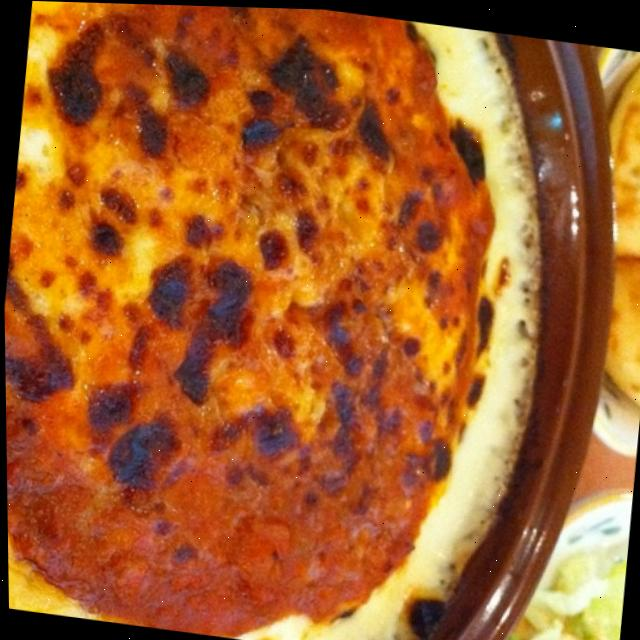米饭主食: (0, 0, 567, 640)
